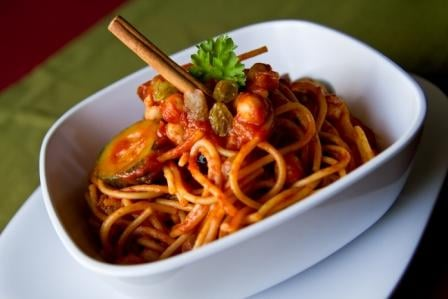curry: (187, 35, 247, 87)
sushi: (26, 16, 433, 288)
